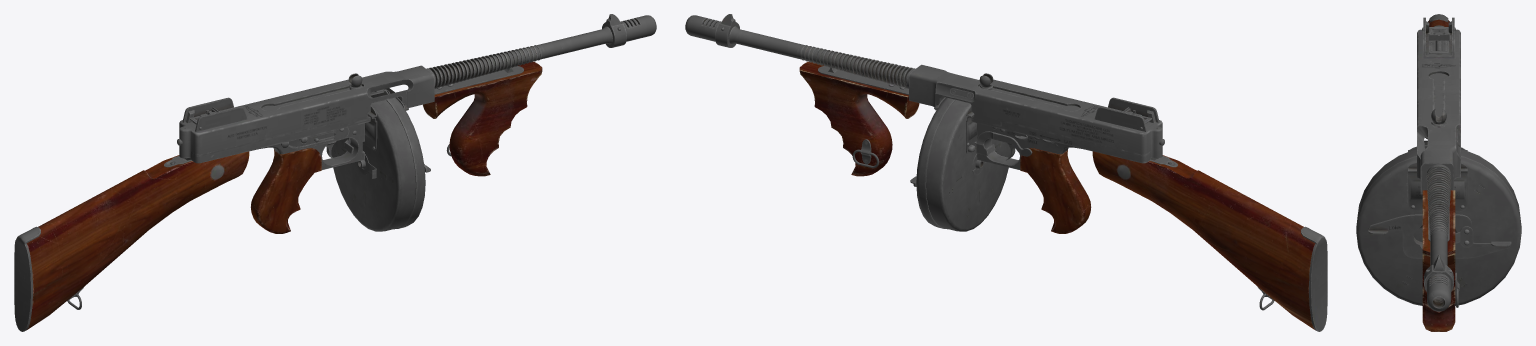
File: tommy-gun.glb
3 views of the same model, side by side, from view 1: azimuth 30°, elevation 25°; view 2: azimuth 150°, elevation 25°; view 3: azimuth 270°, elevation 25° (orthographic). The views are drawn at different scales.
Visible parts, largest first — view 1: stock_low_Material #26_0, base_low_Material #26_0, magB_low_Material #31_0, gripF_low_Material #26_0, barrel_low_Material #26_0, gripB_low_Material #26_0, stockPlate_low_Material #26_0, magF_low_Material #31_0, sightBase_low_Material #26_0; view 2: stock_low_Material #26_0, base_low_Material #26_0, magB_low_Material #31_0, gripF_low_Material #26_0, barrel_low_Material #26_0, gripB_low_Material #26_0, stockPlate_low_Material #26_0, magF_low_Material #31_0, sightBase_low_Material #26_0, triggerPlate2_low; view 3: magF_low_Material #31_0, base_low_Material #26_0, barrel_low_Material #26_0, gripF_low_Material #26_0, magOpen_low, magFrontPlate_low_Material #31_0, magB_low_Material #31_0, sightBase_low_Material #26_0, magPart1_low_Material #31_0, numberPlate_low_Material #26_0, aim_low_Material #26_0, numberPlate3_low (+1 smaller).
Boxes of the visible parts, left/top/right/bottom form: stock_low_Material #26_0: left=26, top=151, right=249, bottom=329; base_low_Material #26_0: left=179, top=65, right=523, bottom=169; magB_low_Material #31_0: left=331, top=91, right=415, bottom=231; gripF_low_Material #26_0: left=423, top=61, right=542, bottom=176; barrel_low_Material #26_0: left=426, top=15, right=656, bottom=88; gripB_low_Material #26_0: left=250, top=148, right=321, bottom=233; stockPlate_low_Material #26_0: left=14, top=226, right=40, bottom=331; magF_low_Material #31_0: left=371, top=89, right=425, bottom=229; sightBase_low_Material #26_0: left=182, top=97, right=247, bottom=131; stock_low_Material #26_0: left=1092, top=151, right=1315, bottom=329; base_low_Material #26_0: left=818, top=64, right=1162, bottom=169; magB_low_Material #31_0: left=926, top=100, right=1010, bottom=231; gripF_low_Material #26_0: left=799, top=61, right=919, bottom=176; barrel_low_Material #26_0: left=685, top=15, right=915, bottom=88; gripB_low_Material #26_0: left=1020, top=148, right=1091, bottom=233; stockPlate_low_Material #26_0: left=1301, top=226, right=1327, bottom=331; magF_low_Material #31_0: left=916, top=97, right=955, bottom=229; sightBase_low_Material #26_0: left=1094, top=97, right=1159, bottom=131; triggerPlate2_low: left=976, top=131, right=1032, bottom=156; magF_low_Material #31_0: left=1356, top=156, right=1521, bottom=305; base_low_Material #26_0: left=1417, top=25, right=1460, bottom=241; barrel_low_Material #26_0: left=1424, top=164, right=1453, bottom=311; gripF_low_Material #26_0: left=1422, top=190, right=1455, bottom=331; magOpen_low: left=1368, top=214, right=1511, bottom=258; magFrontPlate_low_Material #31_0: left=1408, top=162, right=1467, bottom=211; magB_low_Material #31_0: left=1358, top=147, right=1519, bottom=210; sightBase_low_Material #26_0: left=1423, top=17, right=1454, bottom=58; magPart1_low_Material #31_0: left=1455, top=226, right=1473, bottom=247; numberPlate_low_Material #26_0: left=1429, top=27, right=1448, bottom=53; aim_low_Material #26_0: left=1431, top=109, right=1446, bottom=127; numberPlate3_low: left=1428, top=32, right=1451, bottom=41.
Bounding box in the file's own units: 0.8463 × 0.2252 × 0.1664.
Materials: 2 (2 with a texture image).
